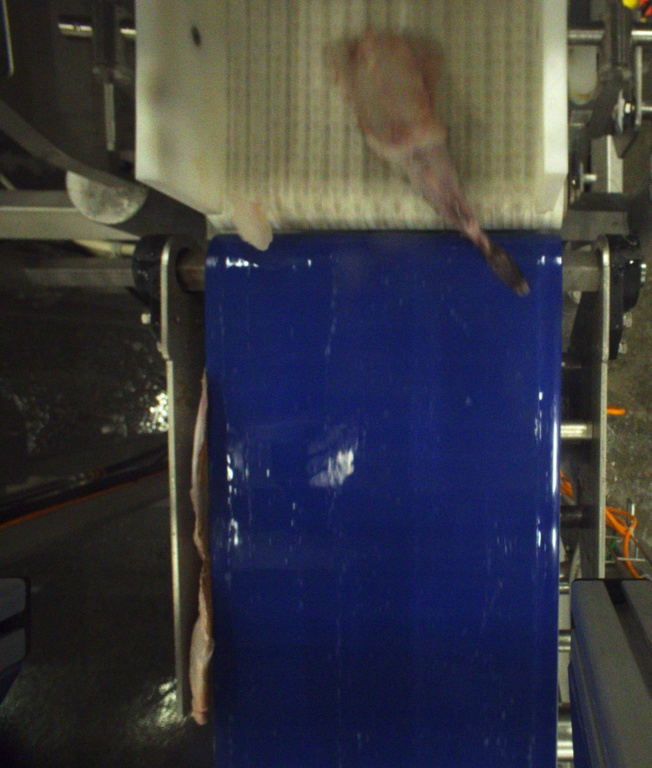ANF: (327, 36, 536, 302)
